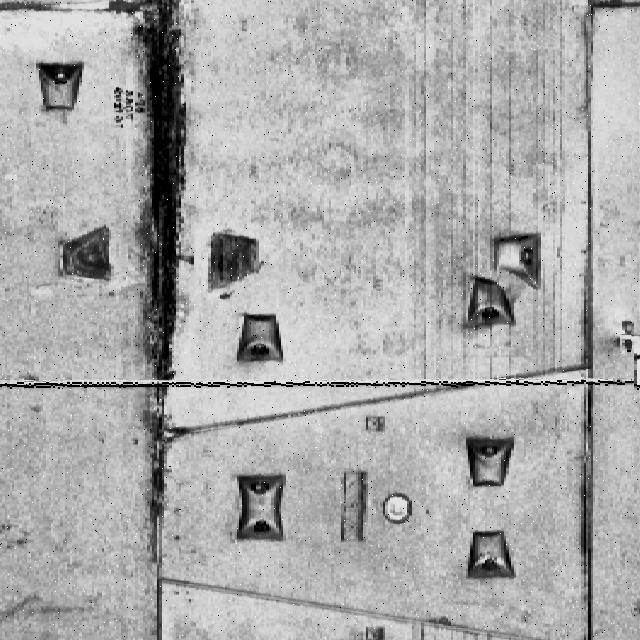leakage: (125, 0, 198, 549)
